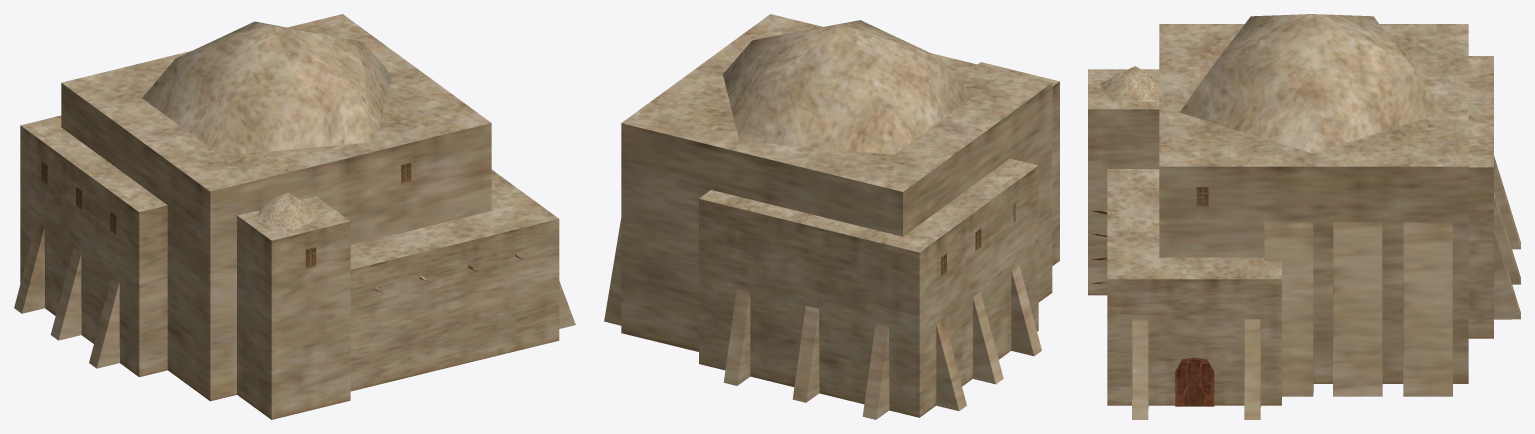
Rendered from thm_tato_imprv_building_s01_l3.fbx.
3 renders of one model, left to right at view 1: azimuth 30°, elevation 25°; view 2: azimuth 150°, elevation 25°; view 3: azimuth 270°, elevation 25°, orthographic. The views are drawn at different scales.
Parts seen in each view (by area): view 1: mesh_node; view 2: mesh_node; view 3: mesh_node.
Boxes of the visible parts, box(x1,y1,x2,y2) form: mesh_node: box(14, 14, 575, 419); mesh_node: box(604, 14, 1059, 419); mesh_node: box(1088, 14, 1520, 419).
Bounding box in the file's own units: 26.2 × 17.79 × 23.43.
